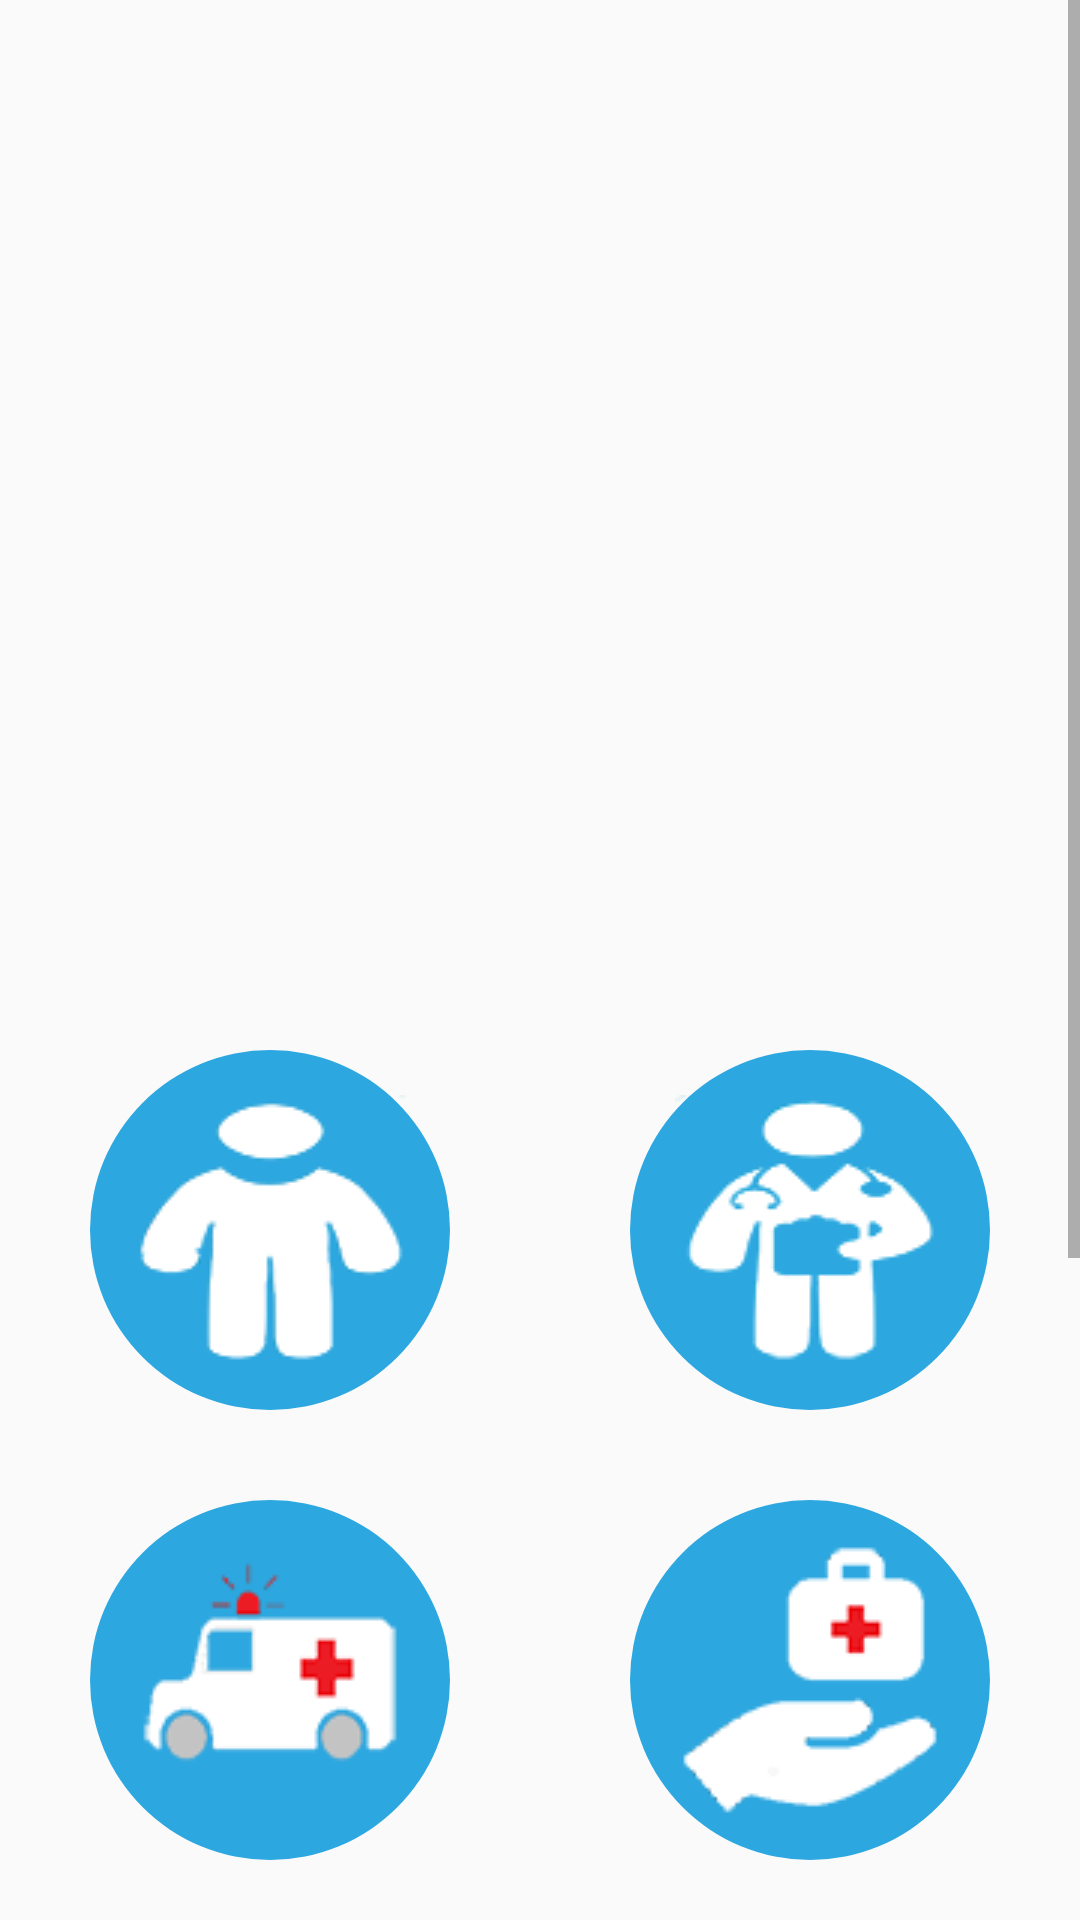

Where icons sit on this 1080w x 1920h app screen, as {"x1": x1, "y1": y1, "x2": x2, "y2": y2}:
ambu: {"x1": 90, "y1": 1500, "x2": 450, "y2": 1860}
docwhite: {"x1": 630, "y1": 1050, "x2": 990, "y2": 1410}
patientwhte: {"x1": 90, "y1": 1050, "x2": 450, "y2": 1410}
treatment: {"x1": 630, "y1": 1500, "x2": 990, "y2": 1860}
